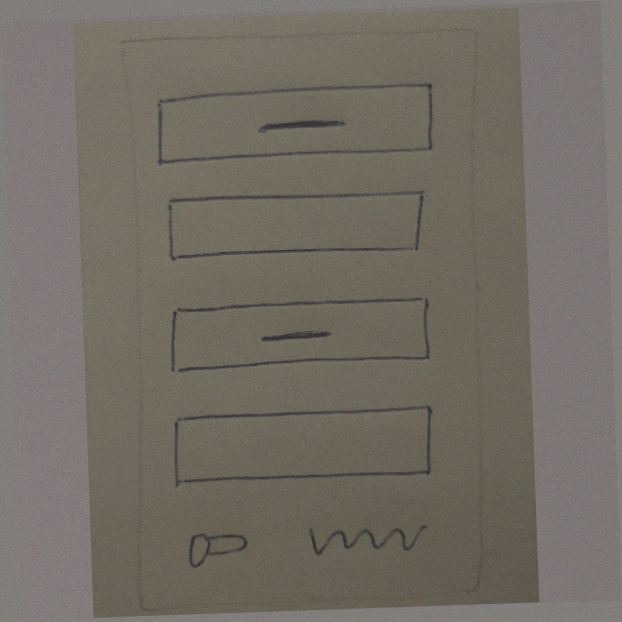button: (147, 75, 439, 175), (156, 285, 447, 385)
switch: (177, 525, 257, 574)
text: (295, 507, 438, 568)
text_input: (156, 182, 436, 273), (162, 401, 441, 491)
